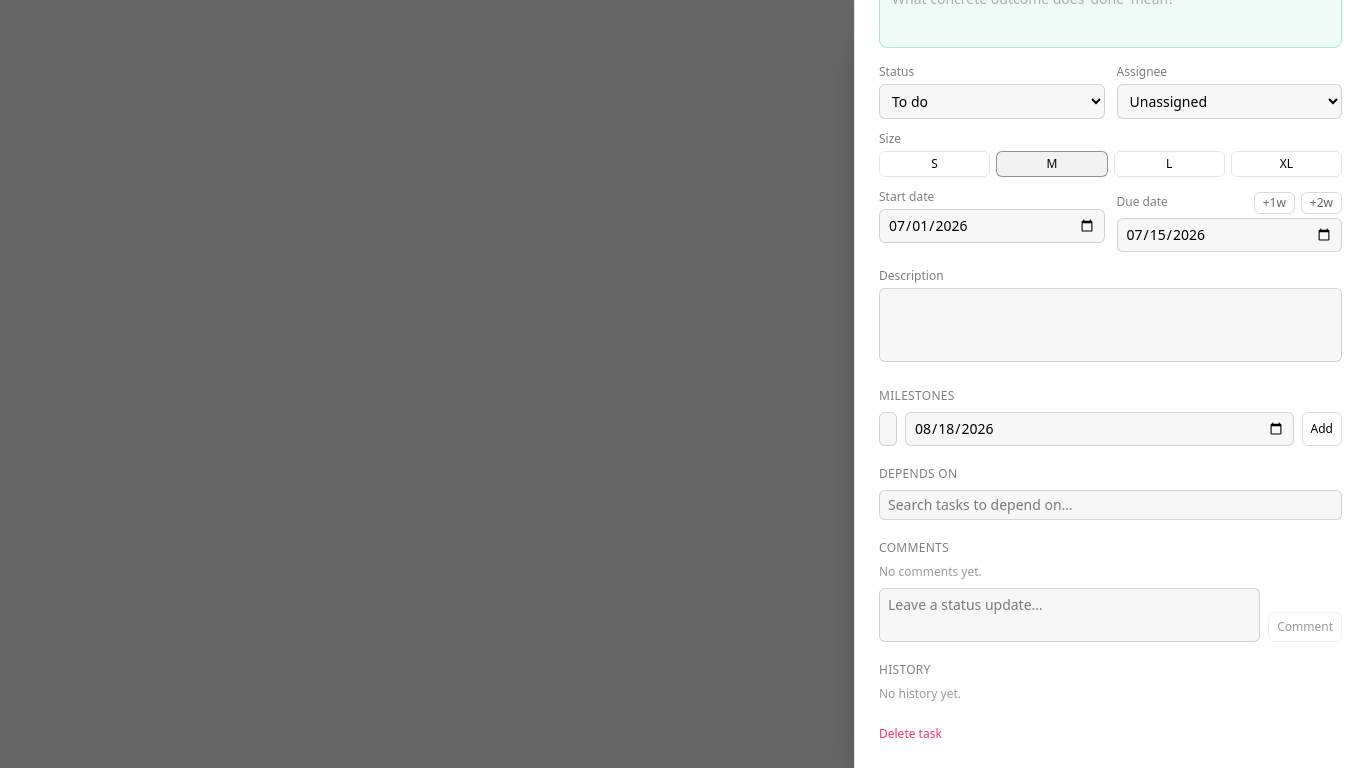
Test case: TaskDetailDrawer — deleting asks first, in the app's own dialog › does not delete on the first click
(page scrolled)
Click the button "Delete task". click: (910, 734)
box: [879,726,942,742]
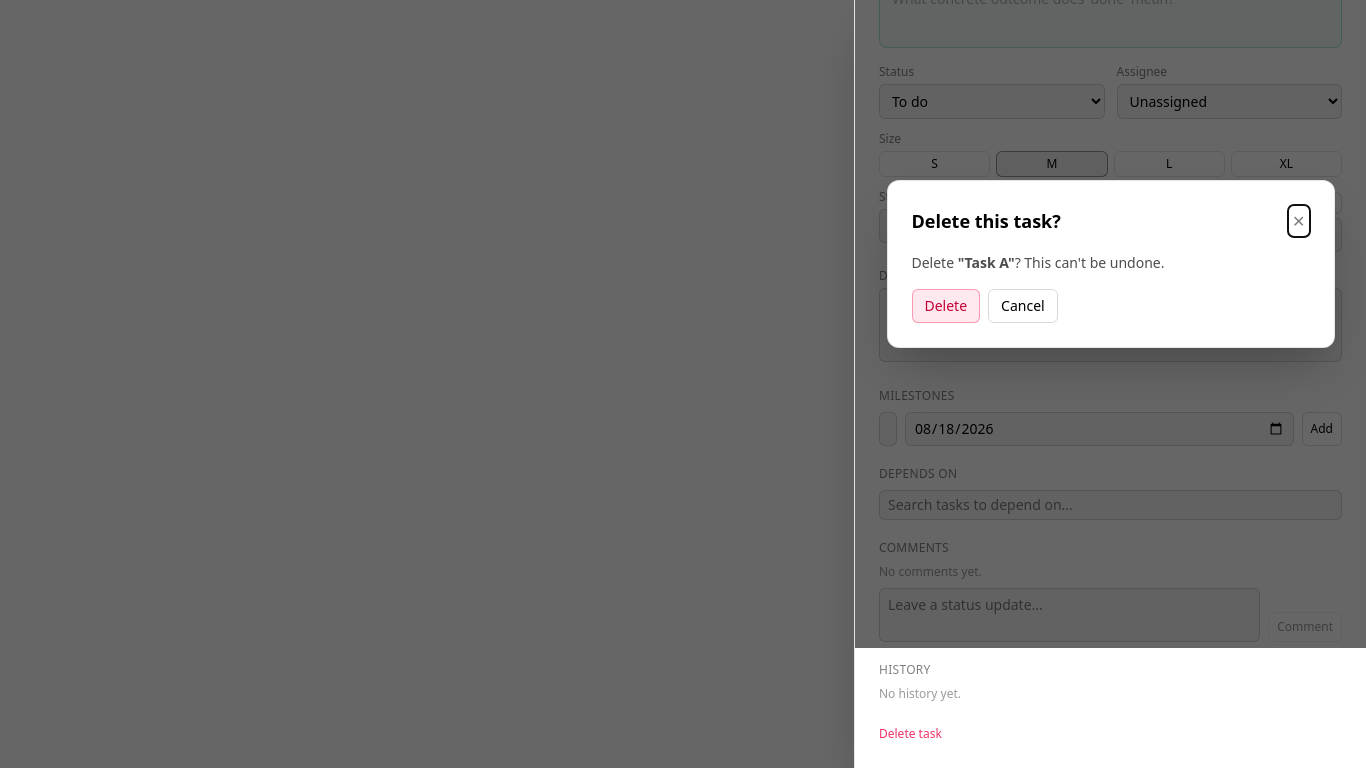
Now the dialog "Delete this task?" is shown, box [886,180,1334,348]
